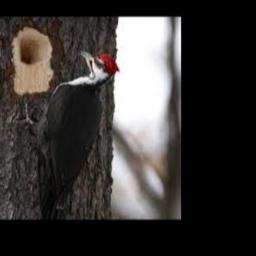Woodpecker: (16, 50, 120, 219)
